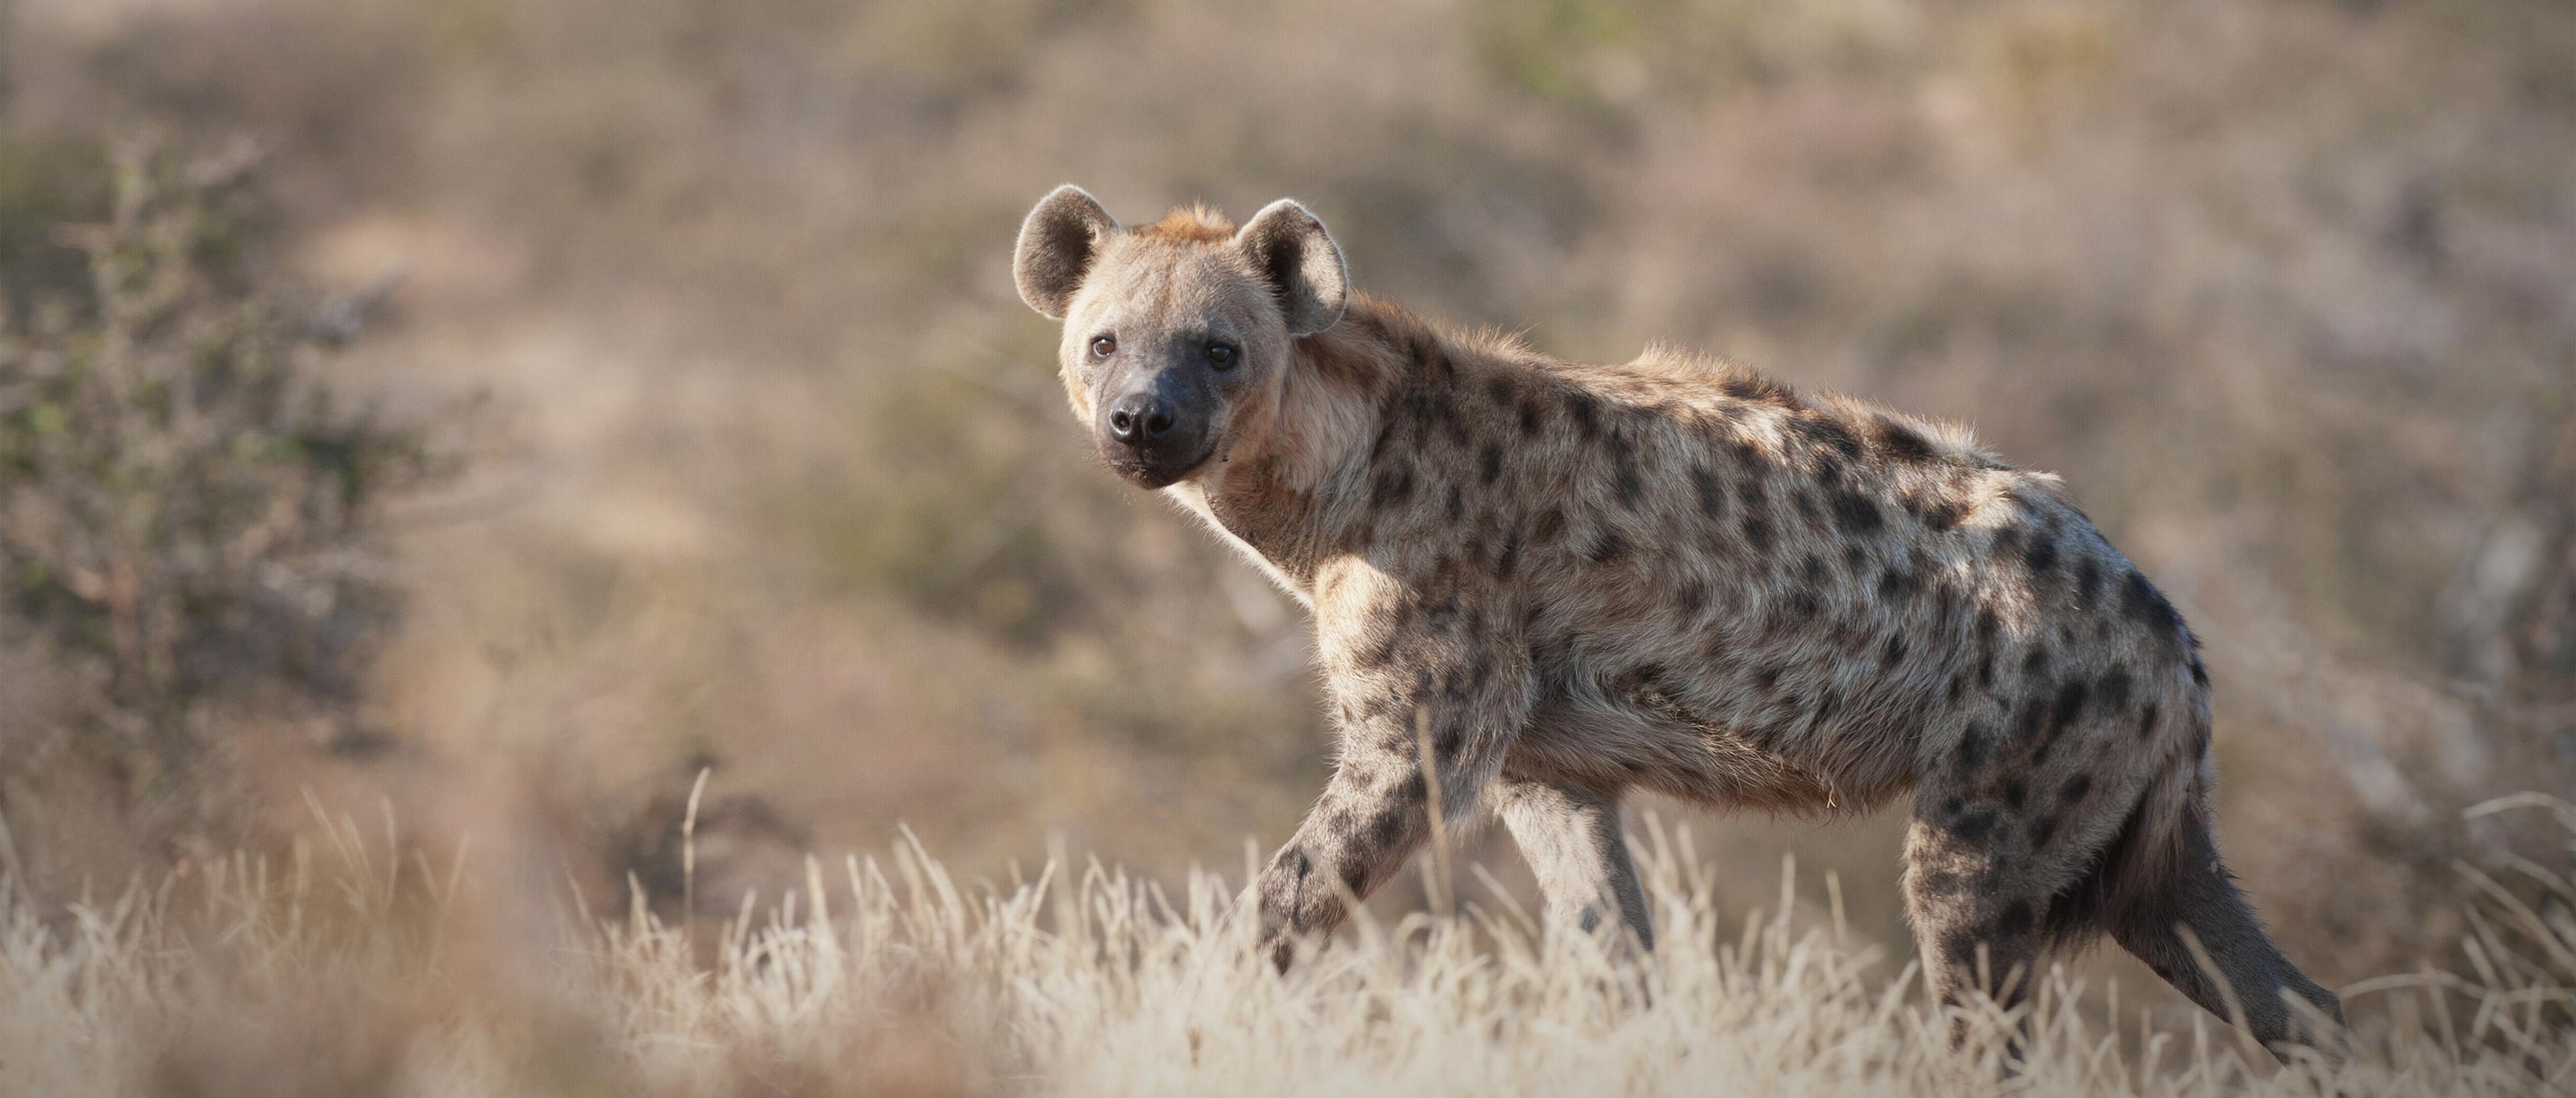hyna: (1009, 169, 2362, 1072)
